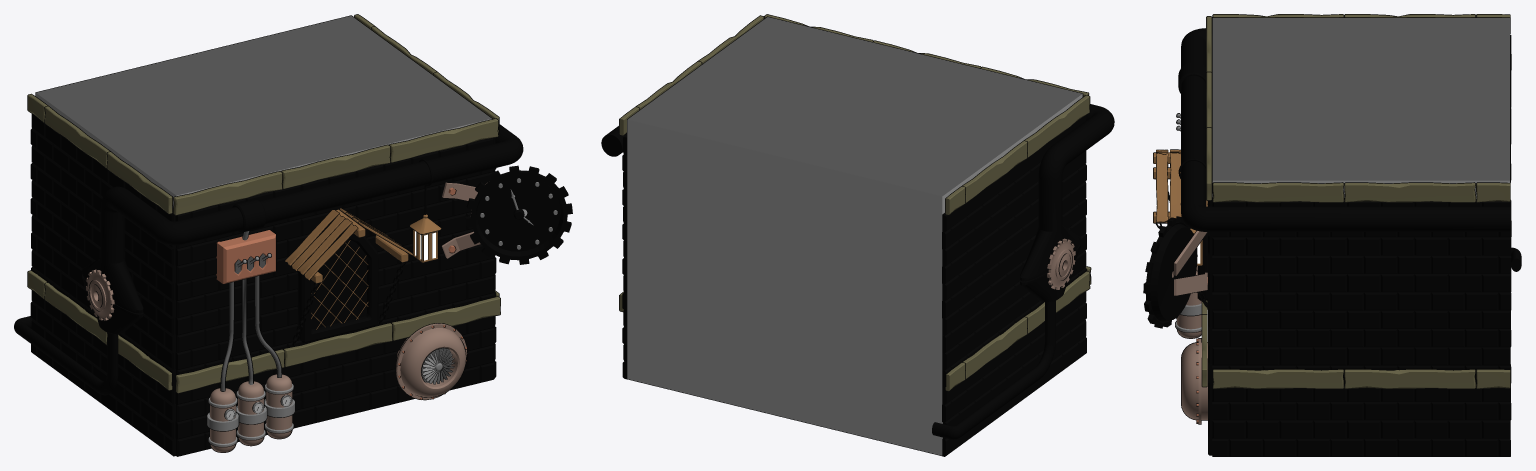
Rendered from Tawer5L.fbx.
The picture shows the model from 3 angles, left to right: view 1: azimuth 30°, elevation 25°; view 2: azimuth 150°, elevation 25°; view 3: azimuth 270°, elevation 25°; orthographic projection. The views are drawn at different scales.
Visible parts, largest first — view 1: Cube; view 2: Cube; view 3: Cube.
Boxes of the visible parts, <box> form: Cube: <box>14,14,572,456</box>; Cube: <box>601,14,1114,456</box>; Cube: <box>1143,14,1521,456</box>.
Bounding box in the file's own units: 160 × 100 × 125.
